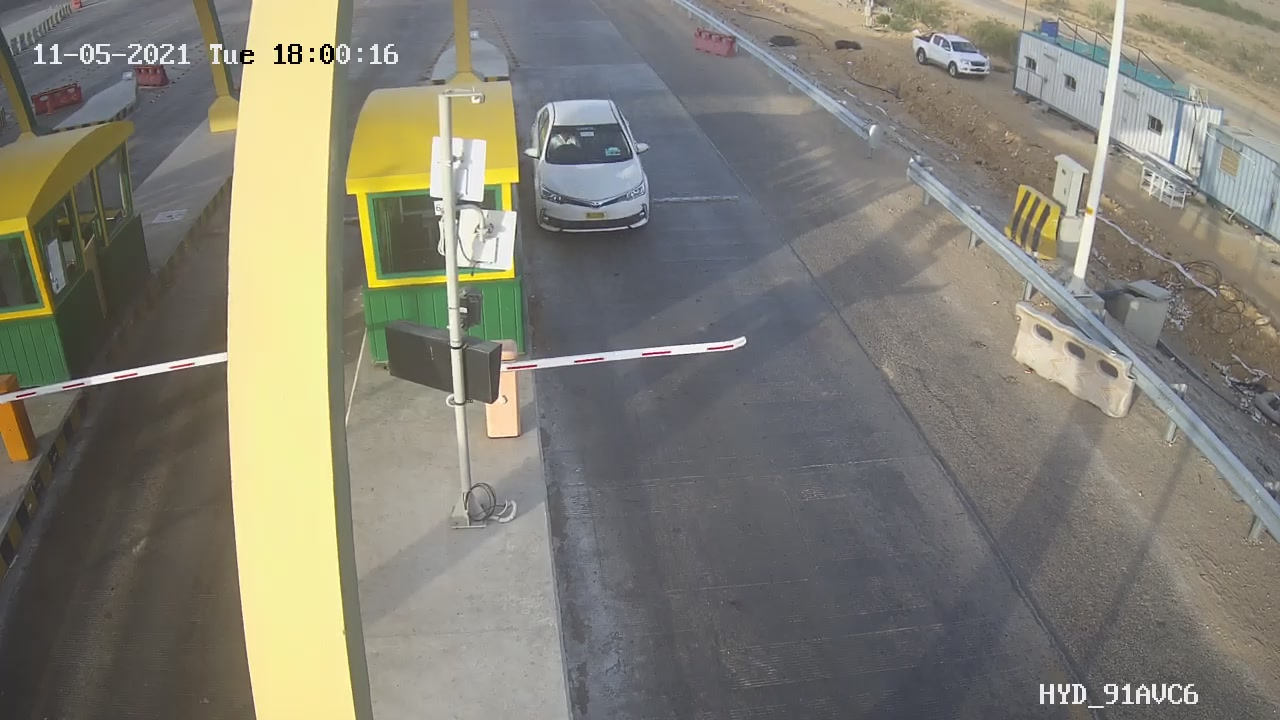F1: (518, 92, 666, 240)
